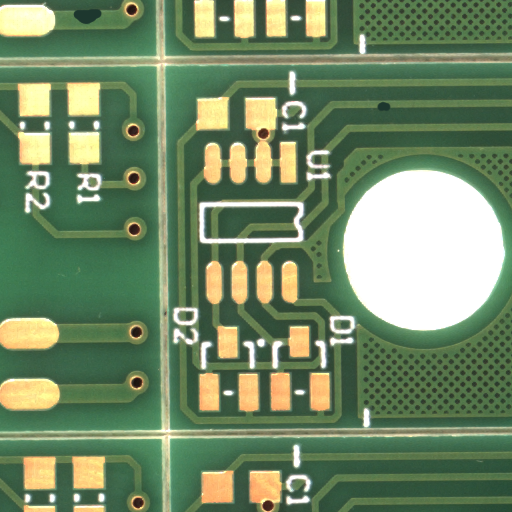Mouse_bite: (88, 16, 119, 31), (383, 106, 397, 116)
